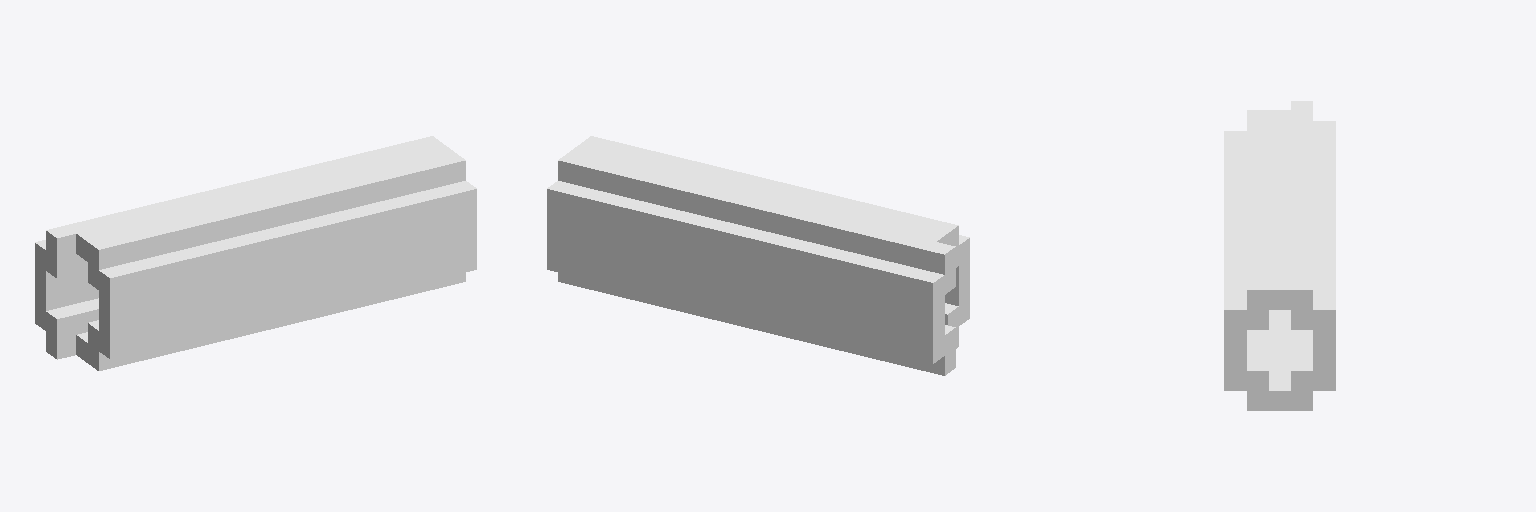
The model's file is upper_arm.obj.
3 renders of one model, left to right at view 1: azimuth 30°, elevation 25°; view 2: azimuth 150°, elevation 25°; view 3: azimuth 270°, elevation 25°, orthographic.
Parts seen in each view (by area): view 1: Ida; view 2: Ida; view 3: Ida.
Part boxes in pixels (bbox=[...]): Ida: bbox=[35, 136, 476, 370]; Ida: bbox=[547, 136, 969, 375]; Ida: bbox=[1224, 101, 1335, 410].
Size of the model in its own units: 2 by 0.6 by 0.5.